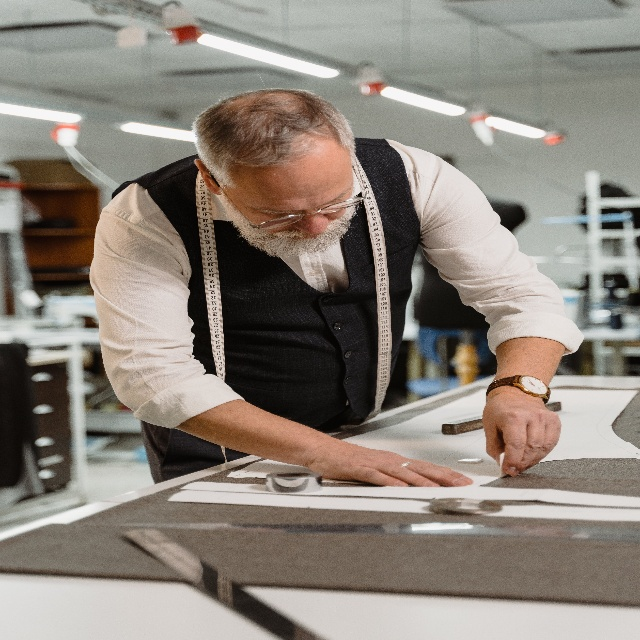Gafas: (250, 207, 363, 223)
Sin_guantes: (311, 432, 473, 488), (481, 392, 563, 476)
